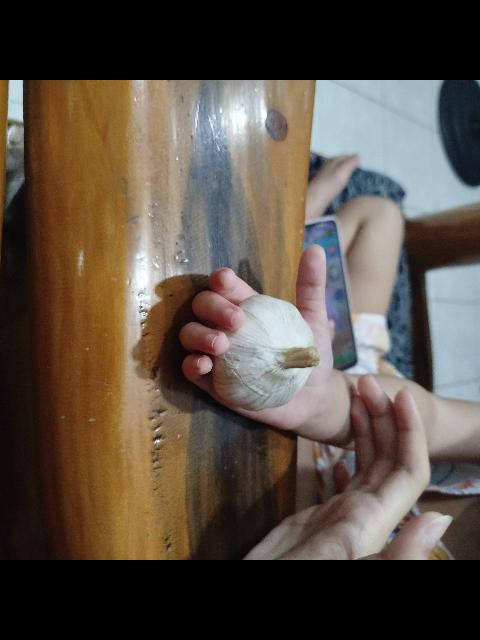garlic: (211, 294, 320, 412)
